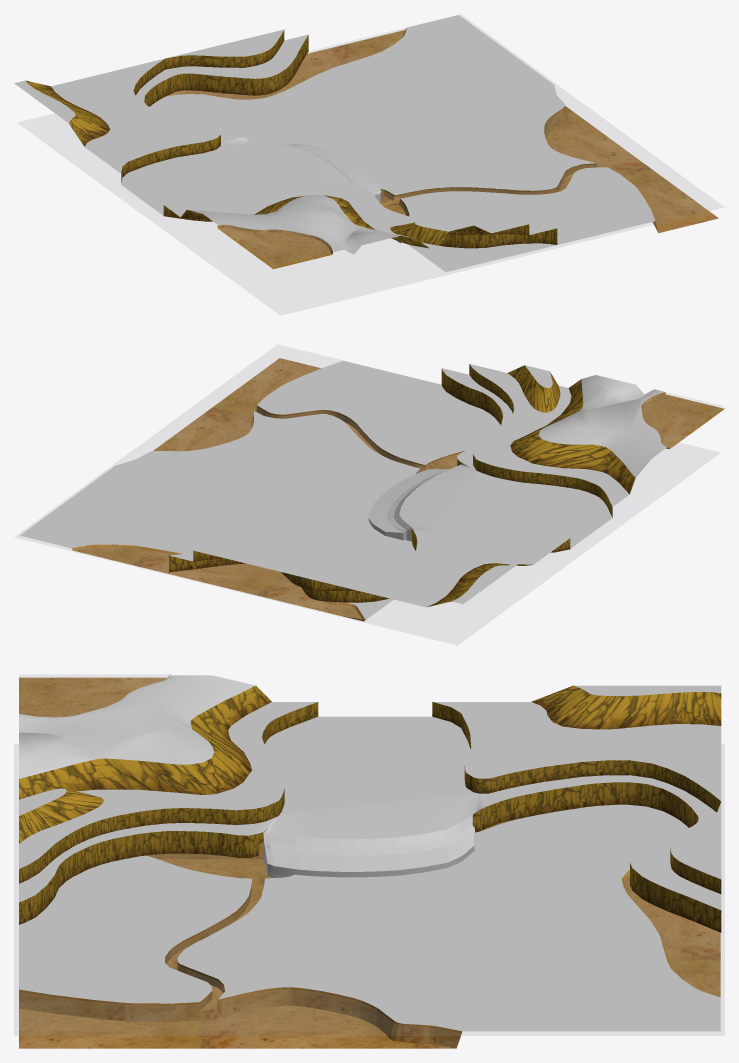
Rendered from Terrain Model 1.FBX.
3 views of the same model, one above another, from view 1: azimuth 30°, elevation 25°; view 2: azimuth 150°, elevation 25°; view 3: azimuth 270°, elevation 25° (orthographic). The views are drawn at different scales.
Parts seen in each view (by area): view 1: Plane005, Plane029, Object006, Object019, Object015, Object004, Object022, Object021, Object007, Plane006, Plane003, Object023; view 2: Plane005, Plane029, Object006, Object019, Object015, Object004, Object007, Object021, Object022, Plane006, Plane003, Object023; view 3: Plane005, Object019, Object015, Plane029, Object006, Object007, Object004, Object022, Object021, Object023, Plane003, Plane006.
Boxes of the visible parts, x1=… form: Plane005: x1=150, y1=15, x2=655, y2=271; Plane029: x1=18, y1=15, x2=722, y2=314; Object006: x1=51, y1=29, x2=528, y2=248; Object019: x1=121, y1=34, x2=556, y2=234; Object015: x1=166, y1=28, x2=718, y2=243; Object004: x1=14, y1=80, x2=472, y2=254; Object022: x1=144, y1=35, x2=557, y2=248; Object021: x1=121, y1=30, x2=529, y2=235; Object007: x1=26, y1=80, x2=490, y2=248; Plane006: x1=217, y1=225, x2=332, y2=269; Plane003: x1=218, y1=225, x2=332, y2=266; Object023: x1=286, y1=144, x2=381, y2=202; Plane005: x1=20, y1=360, x2=500, y2=619; Plane029: x1=15, y1=345, x2=719, y2=644; Object006: x1=194, y1=364, x2=629, y2=607; Object019: x1=170, y1=368, x2=612, y2=577; Object015: x1=71, y1=358, x2=464, y2=621; Object004: x1=452, y1=365, x2=667, y2=603; Object007: x1=428, y1=365, x2=635, y2=606; Object021: x1=193, y1=364, x2=612, y2=590; Object022: x1=169, y1=369, x2=502, y2=602; Plane006: x1=641, y1=392, x2=724, y2=449; Plane003: x1=641, y1=392, x2=723, y2=446; Object023: x1=368, y1=468, x2=449, y2=541; Plane005: x1=19, y1=804, x2=720, y2=1031; Object019: x1=19, y1=716, x2=721, y2=909; Object015: x1=19, y1=853, x2=720, y2=1048; Plane029: x1=14, y1=744, x2=724, y2=1035; Object006: x1=19, y1=702, x2=721, y2=879; Object007: x1=19, y1=685, x2=721, y2=843; Object004: x1=19, y1=675, x2=721, y2=815; Object022: x1=19, y1=782, x2=721, y2=932; Object021: x1=19, y1=702, x2=721, y2=893; Object023: x1=263, y1=814, x2=474, y2=877; Plane003: x1=19, y1=675, x2=169, y2=716; Plane006: x1=19, y1=674, x2=170, y2=717.
Size of the model in its own units: 959 by 123 by 975.
